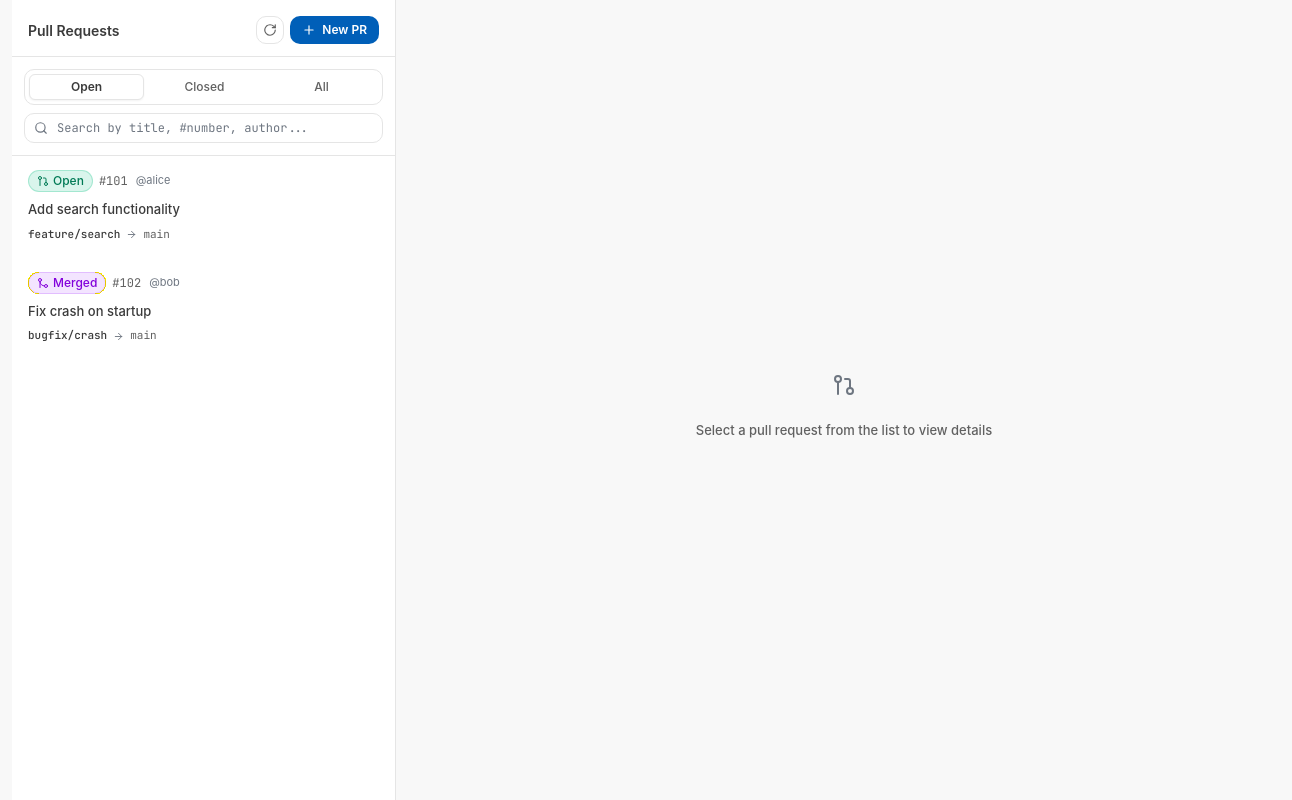
Test: PullRequestsScreen › filters PRs in master pane using search input
Type "search" into the field with placeholder "Search by title, #number, author..." at {"x": 204, "y": 128}, box [24,113,383,143]
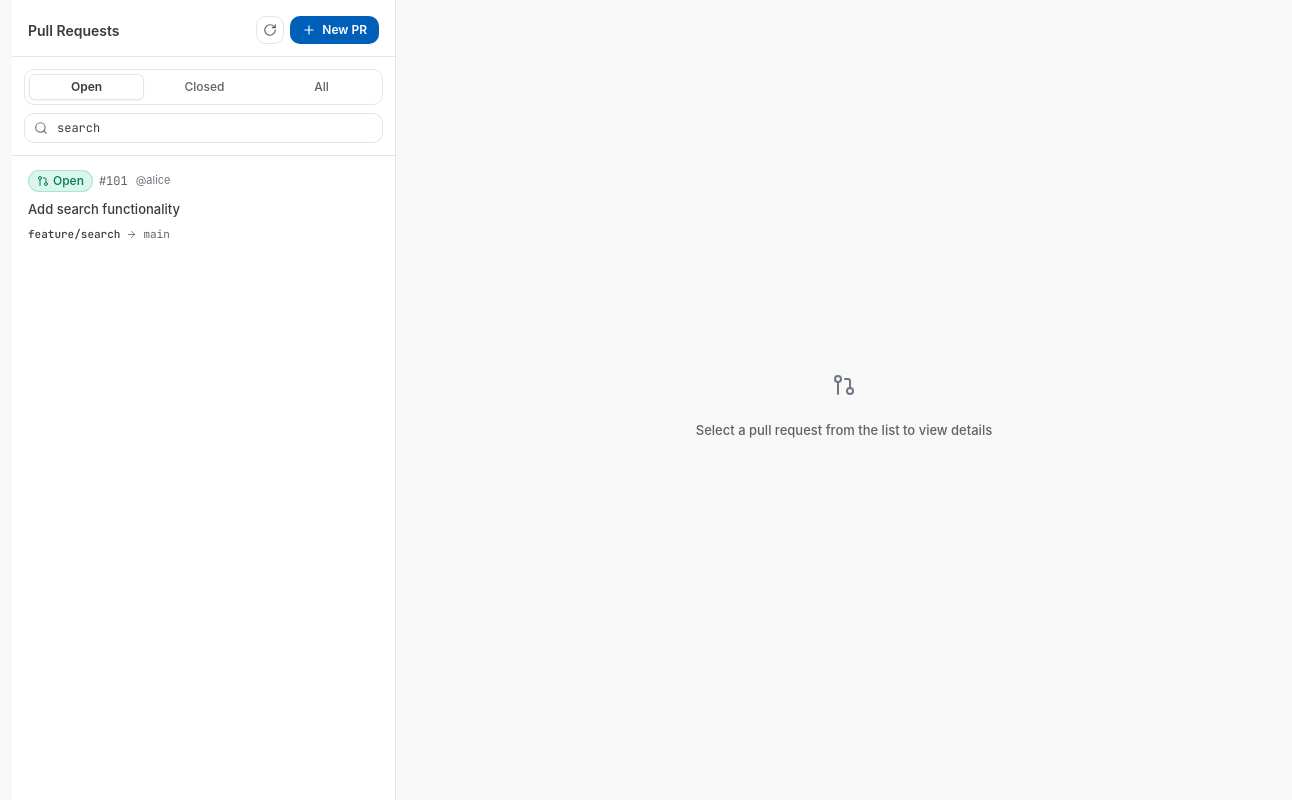
Expected: the text "Add search functionality" is shown, [28,200,180,219]
Result: the list item "Fix crash on startup" is gone
